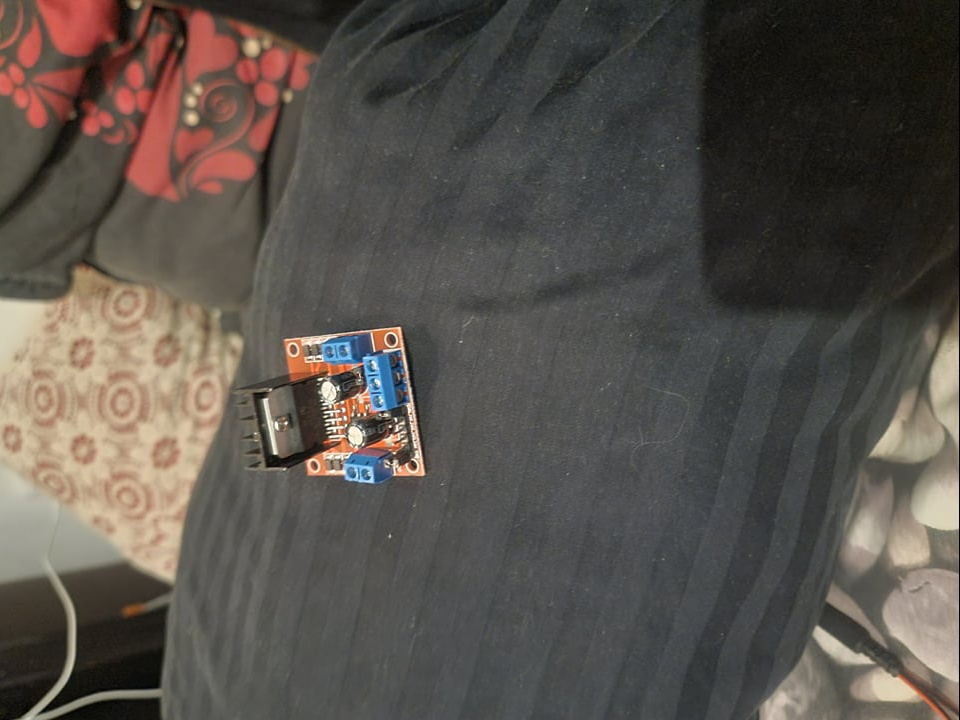MOTOR: (234, 321, 429, 484)
